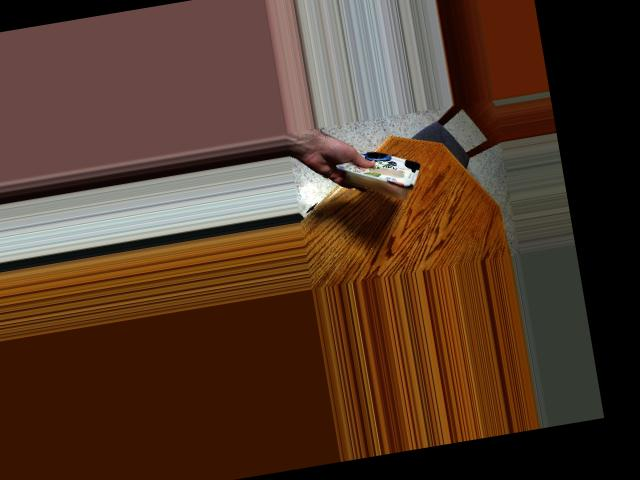cheese: (344, 132, 421, 205)
